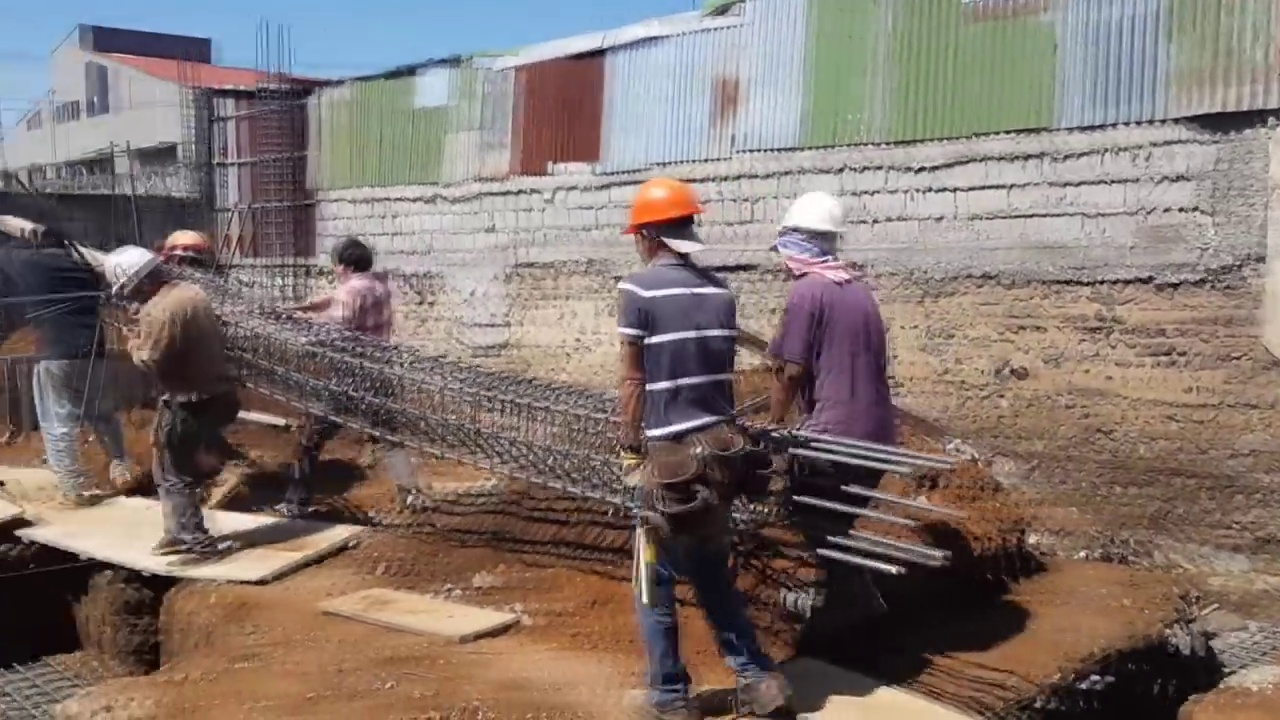helmet: (619, 180, 699, 240), (776, 191, 845, 248), (101, 244, 161, 302), (164, 231, 205, 258)
helmet-off: (325, 239, 371, 293), (32, 223, 67, 262)
helmet-on: (616, 166, 699, 287), (774, 184, 849, 292), (101, 239, 175, 310), (161, 231, 208, 275)
person: (612, 166, 772, 720), (762, 194, 910, 662), (102, 225, 236, 553), (1, 223, 104, 523), (294, 230, 386, 484)
